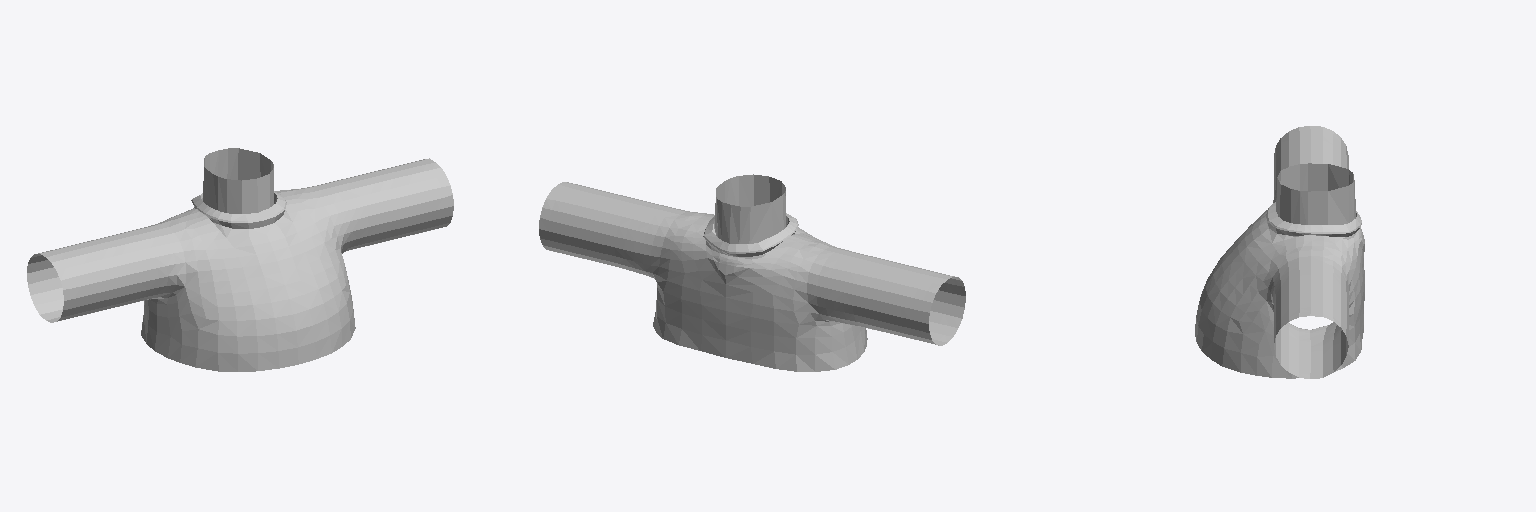
File: body.obj
The picture shows the model from 3 angles: view 1: azimuth 30°, elevation 25°; view 2: azimuth 150°, elevation 25°; view 3: azimuth 270°, elevation 25°; orthographic projection.
Parts seen in each view (by area): view 1: eye_inner; view 2: eye_inner; view 3: eye_inner.
Part boxes in pixels (x1,y1,x2,y2): eye_inner: (27,148,453,371); eye_inner: (539,174,965,371); eye_inner: (1195,126,1364,378).
Size of the model in its own units: 4.46 by 1.71 by 1.69.